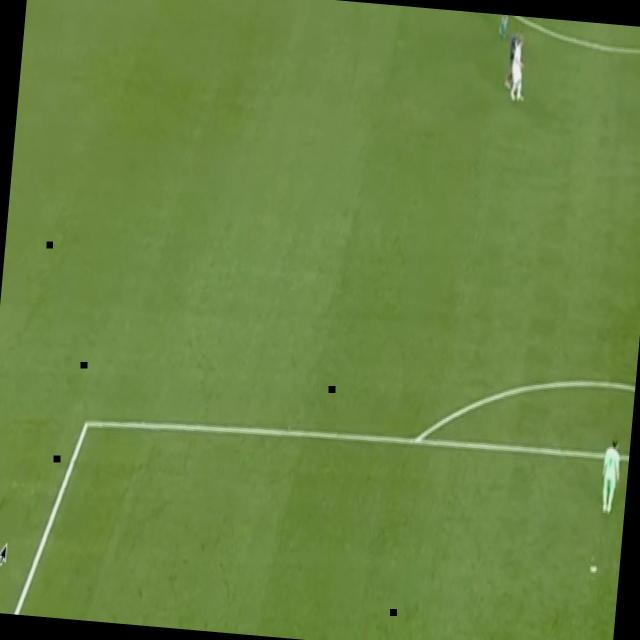player-white: (597, 432, 625, 516), (509, 35, 531, 105), (503, 32, 519, 90), (496, 15, 514, 43)
